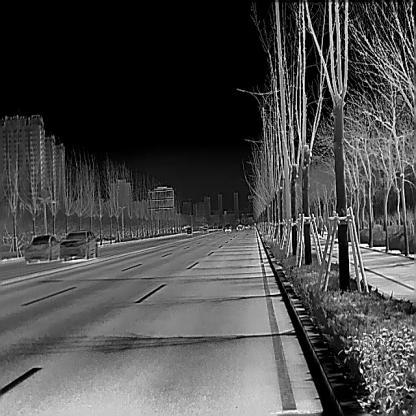car: (59, 229, 98, 262), (24, 234, 60, 264), (235, 223, 245, 231), (224, 224, 232, 232), (202, 225, 209, 232), (186, 226, 191, 234)
